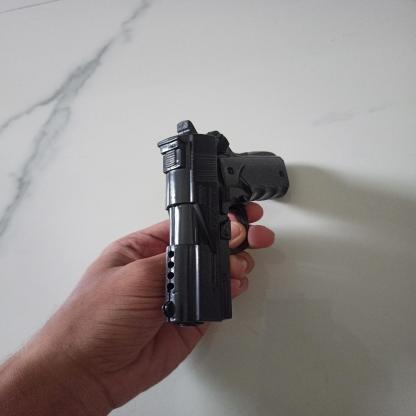handgun: (160, 118, 289, 326)
